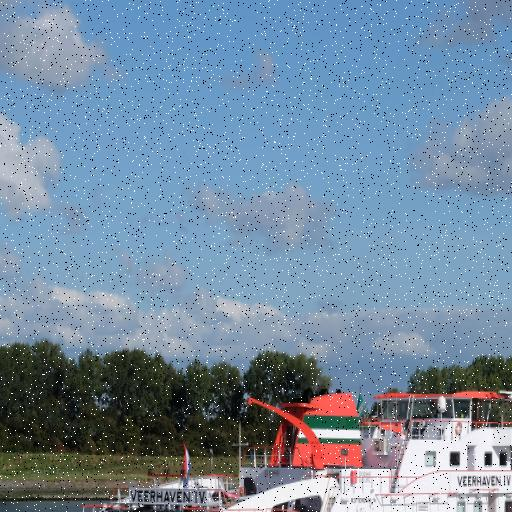tugboat: (56, 380, 512, 512)
